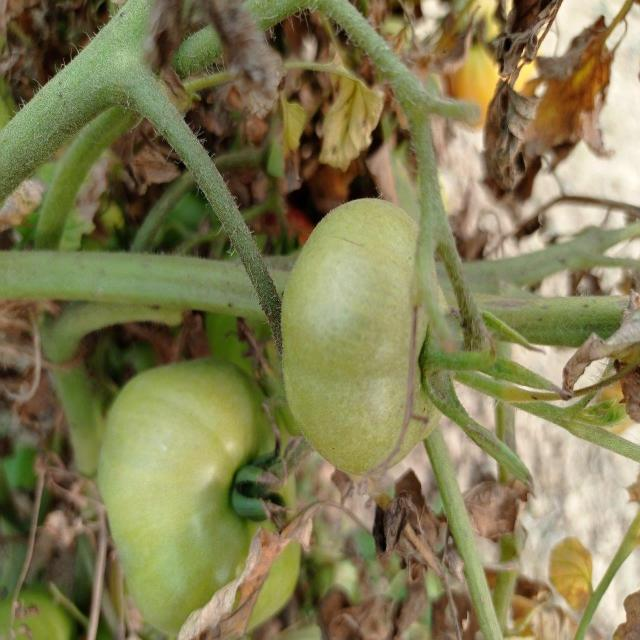Unripe: (98, 356, 285, 637), (282, 194, 458, 474)
